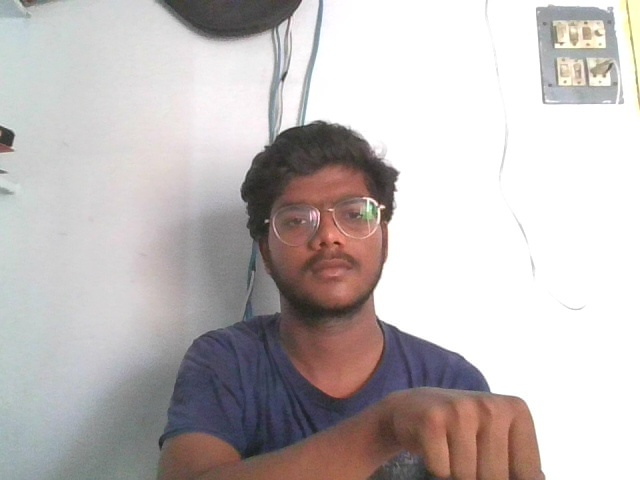Yes: (395, 379, 550, 478)
